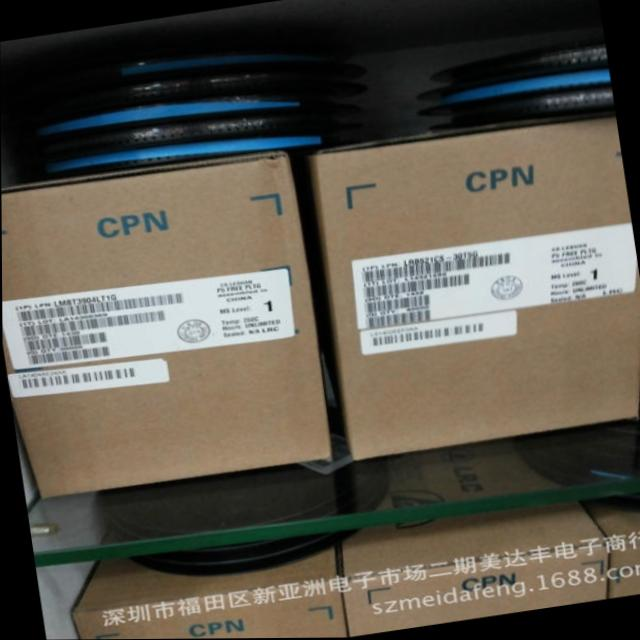box: (304, 115, 640, 461), (1, 152, 330, 501), (336, 501, 609, 637), (69, 550, 343, 640), (583, 503, 640, 599)
